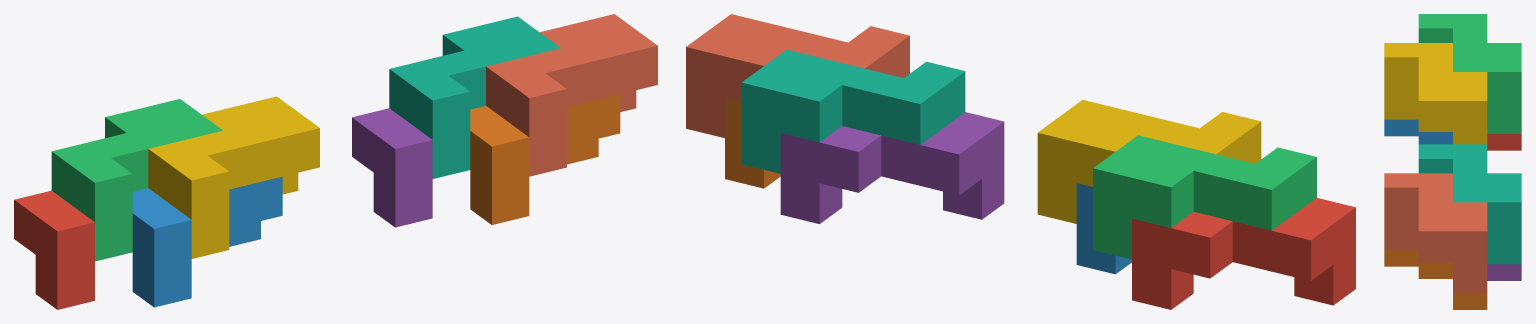
The model's file is tiling.obj.
The picture shows the model from 3 angles, left to right: view 1: azimuth 30°, elevation 25°; view 2: azimuth 150°, elevation 25°; view 3: azimuth 270°, elevation 25°; orthographic projection. The views are drawn at different scales.
Parts seen in each view (by area): view 1: copy_1_domain_4, copy_1_domain_8, copy_1_domain_7, copy_1_domain_3, copy_1_domain_2, copy_1_domain_6, copy_1_domain_1, copy_1_domain_5; view 2: copy_1_domain_7, copy_1_domain_3, copy_1_domain_5, copy_1_domain_1, copy_1_domain_4, copy_1_domain_8, copy_1_domain_2, copy_1_domain_6; view 3: copy_1_domain_8, copy_1_domain_4, copy_1_domain_7, copy_1_domain_3, copy_1_domain_6, copy_1_domain_2, copy_1_domain_1, copy_1_domain_5.
Part boxes in pixels (x1,y1,x2,y2): copy_1_domain_4: [148, 96, 319, 258]; copy_1_domain_8: [486, 14, 657, 176]; copy_1_domain_7: [389, 16, 560, 178]; copy_1_domain_3: [51, 99, 222, 261]; copy_1_domain_2: [132, 176, 282, 307]; copy_1_domain_6: [470, 94, 620, 224]; copy_1_domain_1: [14, 190, 94, 309]; copy_1_domain_5: [352, 108, 432, 227]; copy_1_domain_7: [741, 49, 965, 173]; copy_1_domain_3: [1093, 135, 1316, 259]; copy_1_domain_5: [780, 112, 1004, 223]; copy_1_domain_1: [1132, 198, 1355, 309]; copy_1_domain_4: [1037, 100, 1261, 223]; copy_1_domain_8: [686, 14, 909, 137]; copy_1_domain_2: [1076, 183, 1131, 274]; copy_1_domain_6: [725, 97, 780, 188]; copy_1_domain_8: [1384, 173, 1487, 293]; copy_1_domain_4: [1384, 43, 1487, 144]; copy_1_domain_7: [1418, 144, 1521, 264]; copy_1_domain_3: [1418, 14, 1521, 133]; copy_1_domain_6: [1384, 250, 1487, 309]; copy_1_domain_2: [1384, 119, 1452, 144]; copy_1_domain_1: [1487, 134, 1521, 150]; copy_1_domain_5: [1487, 264, 1521, 280].
Bounding box in the file's own units: 16 × 3 × 4.
